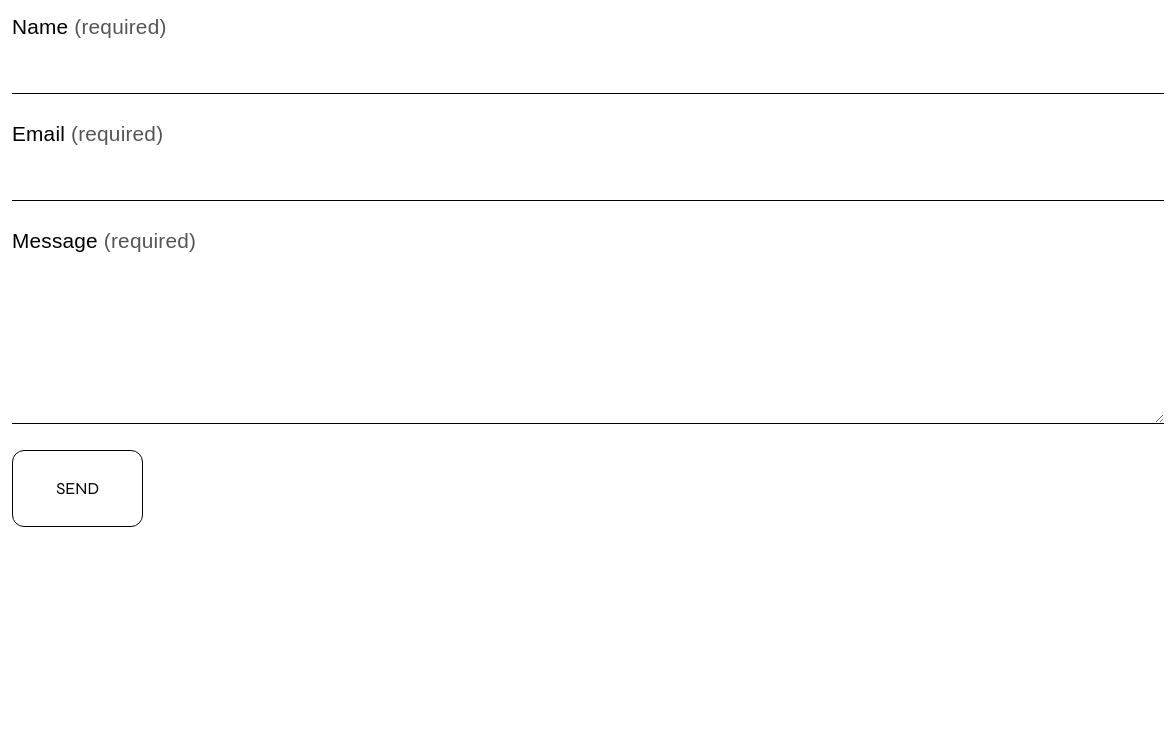
Test: Contact form (public site) › shows the error message when sending fails, and keeps the form
Type "Ana" into the field labelled "Name (required)" at [588, 71], box [12, 48, 1164, 94]
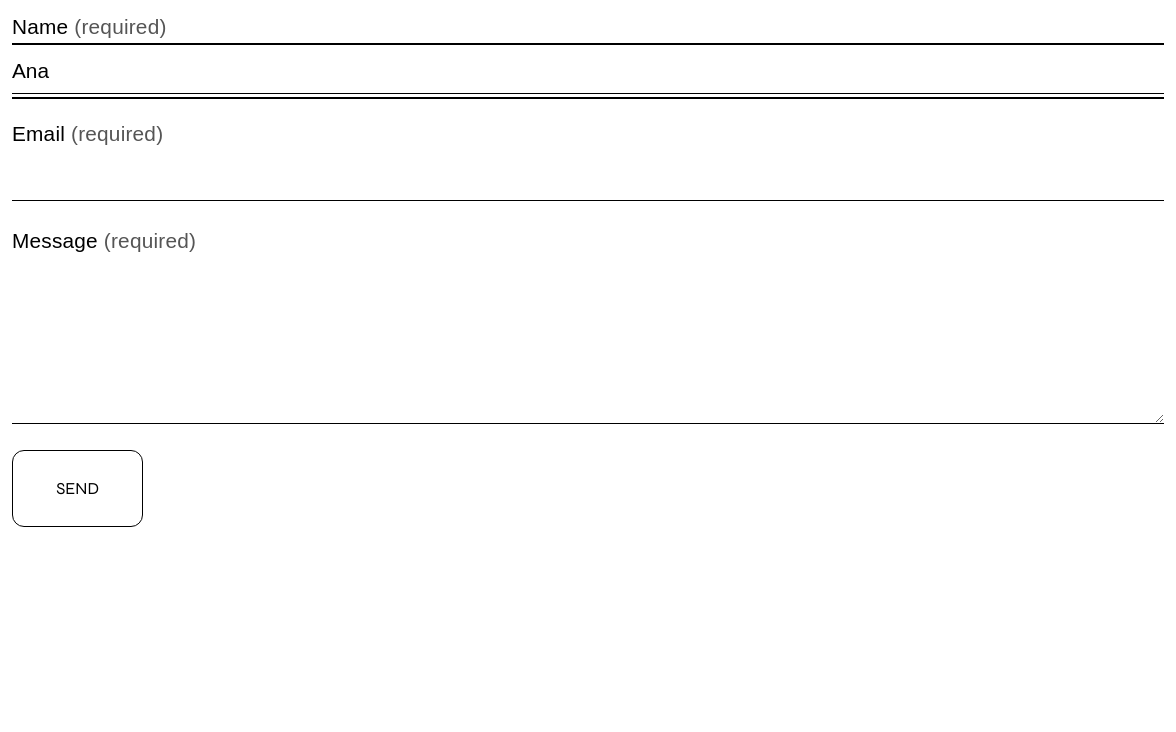
Type "ana@example.com" into the field labelled "Email (required)" at [588, 178], box [12, 155, 1164, 201]
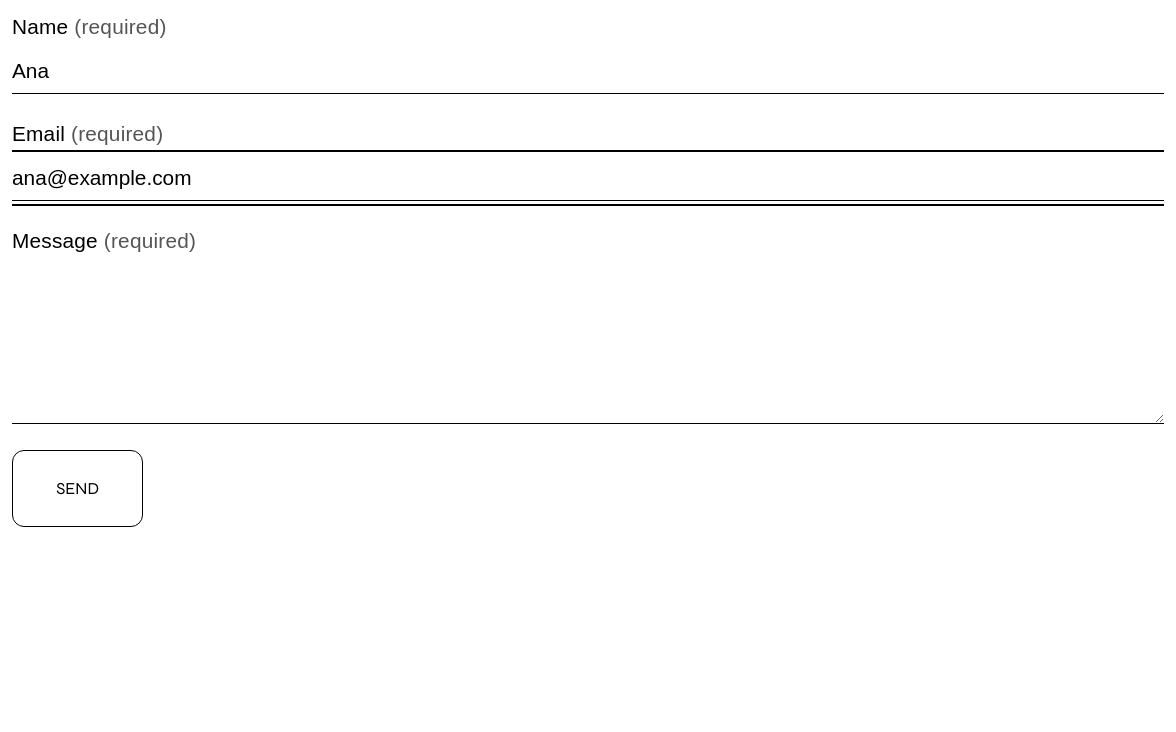
Type "Hello" into the text box labelled "Message (required)" at [588, 343], box [12, 262, 1164, 424]
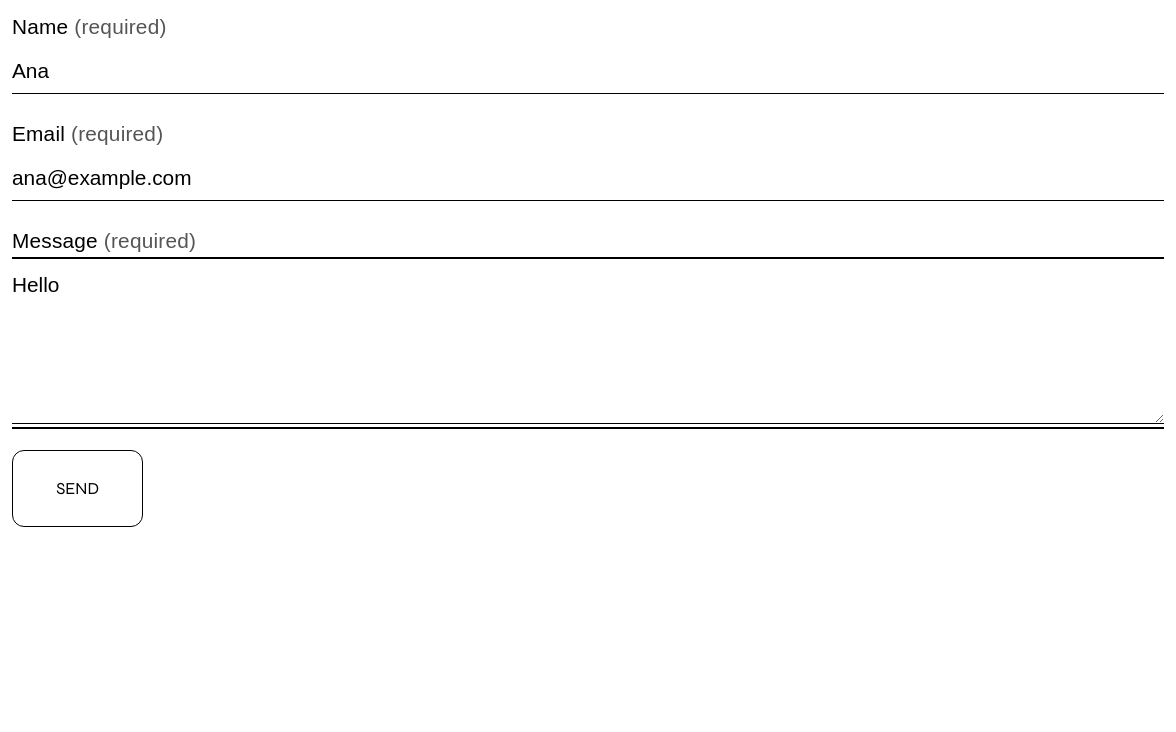
Click the button "Send" at [78, 489], box [12, 450, 143, 527]
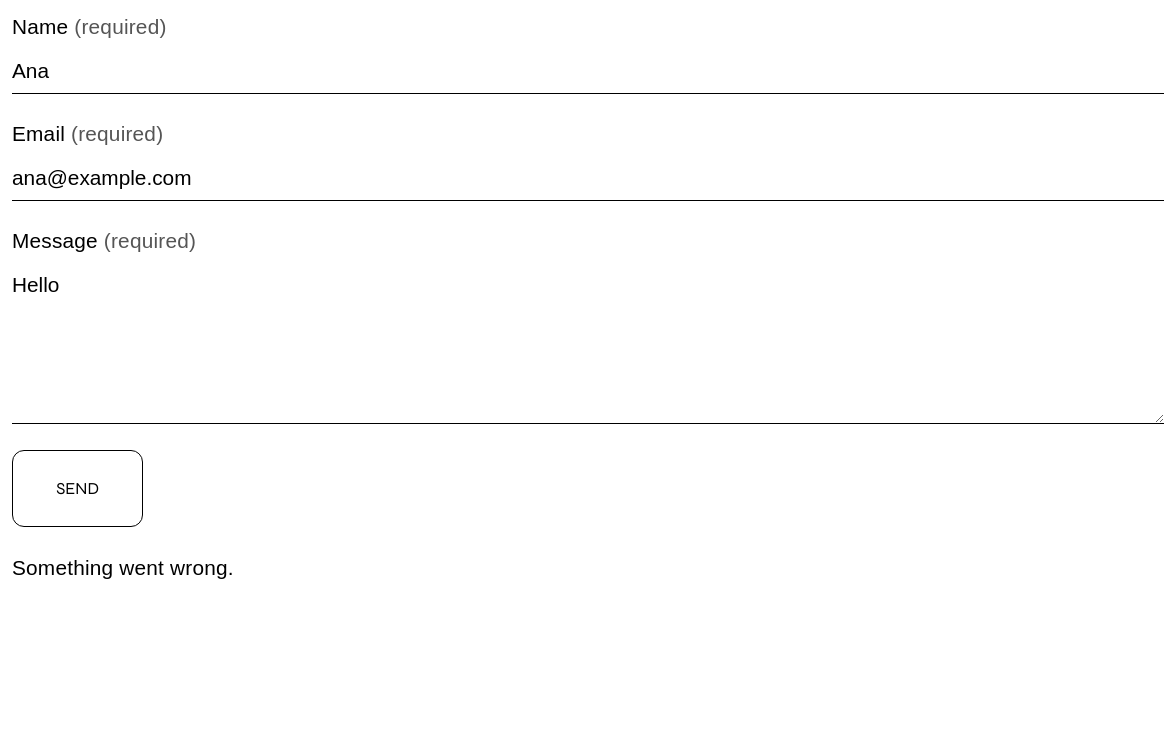
Result: the message reads "Something went wrong." at [12, 556, 234, 579]
